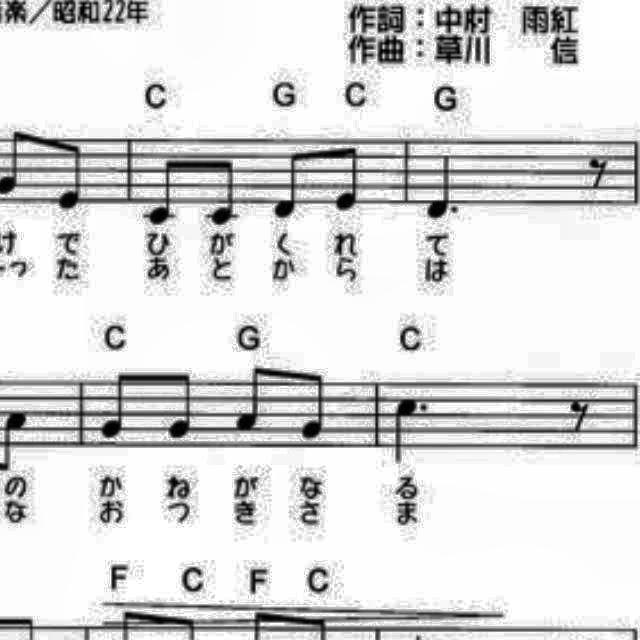Eighth-note: (267, 142, 313, 228), (198, 152, 246, 232), (226, 358, 274, 438), (138, 152, 184, 232), (328, 136, 372, 217), (96, 368, 140, 448), (292, 363, 334, 445), (52, 134, 92, 220), (164, 363, 204, 445)
Eighth-rest: (559, 389, 597, 439), (578, 148, 614, 196)
Quarter-dot: (420, 146, 472, 226), (388, 384, 434, 474)
